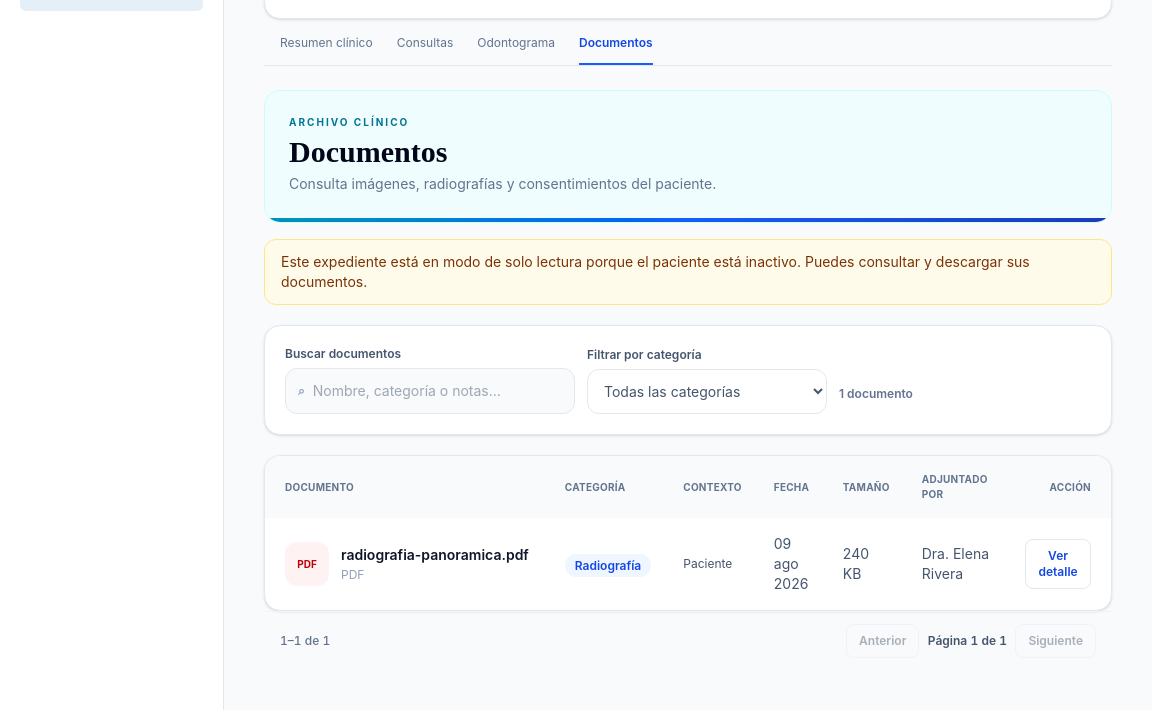
Test: patient documents page › makes an inactive patient visibly read-only
This screenshot has width=1152, height=710.
(page scrolled)
Expected: the text "expediente está en modo de solo lectura" is shown, x1=281 y1=253 x2=1030 y2=290
Click the button with aria-label "Ver radiografia-panoramica.pdf" at (1058, 564), box x1=1025 y1=539 x2=1091 y2=589
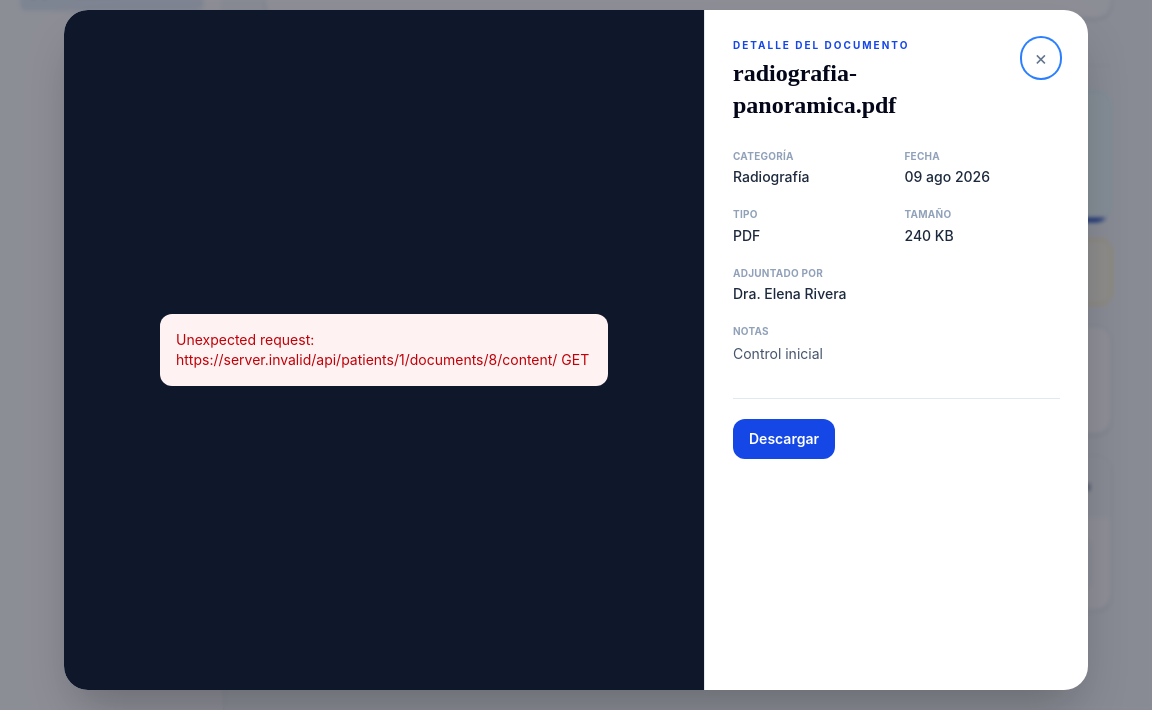
Expected: the dialog named "Detalle del documento" is shown
